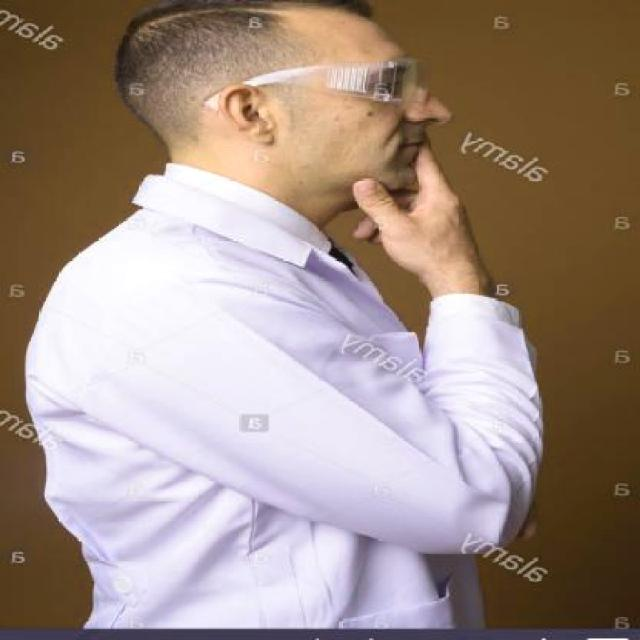face_nomask: (348, 41, 466, 190)
glasses: (204, 53, 431, 113)
hand_noglove: (342, 138, 461, 268)
person: (28, 0, 498, 640)
